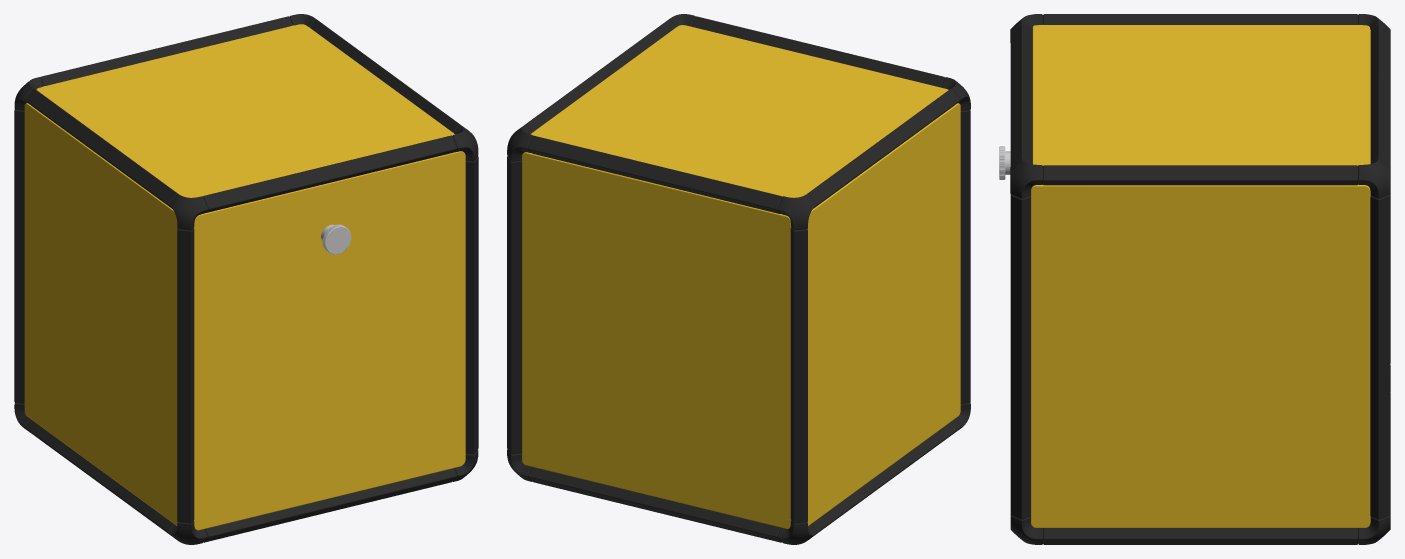
3 renders of one model, left to right at view 1: azimuth 30°, elevation 25°; view 2: azimuth 150°, elevation 25°; view 3: azimuth 270°, elevation 25°, orthographic. The views are drawn at different scales.
Visible parts, largest first — view 1: 374x374x420; view 2: 374x374x420; view 3: 374x374x420.
Boxes of the visible parts, x1,y1,x2,y2 form: 374x374x420: [14, 14, 478, 544]; 374x374x420: [507, 14, 970, 544]; 374x374x420: [999, 14, 1390, 544].
Bounding box in the file's own units: 0.4517 × 0.4976 × 0.4646.
